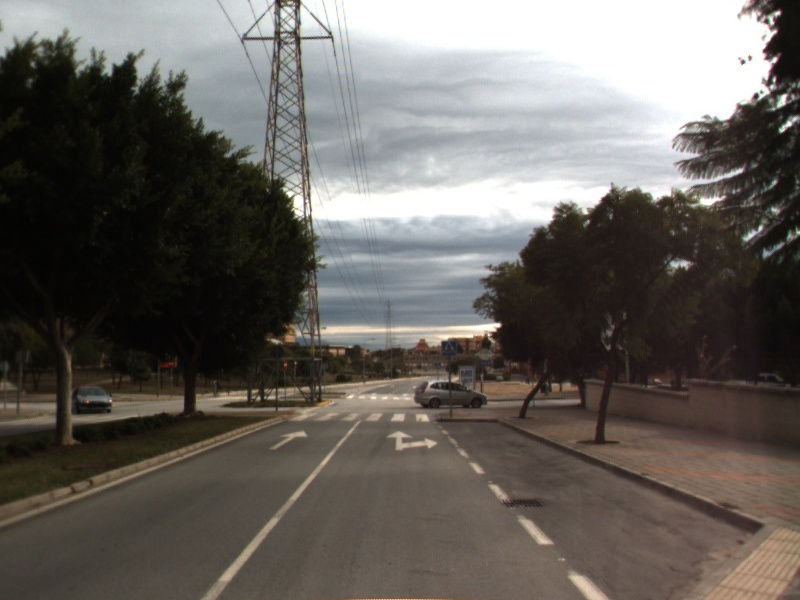STRAIGHT: (267, 427, 310, 452)
STRAIGHT_RIGHT: (384, 428, 440, 452)
